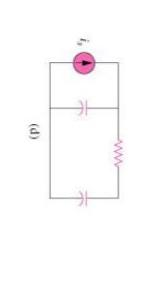resistor: (107, 128, 130, 176)
